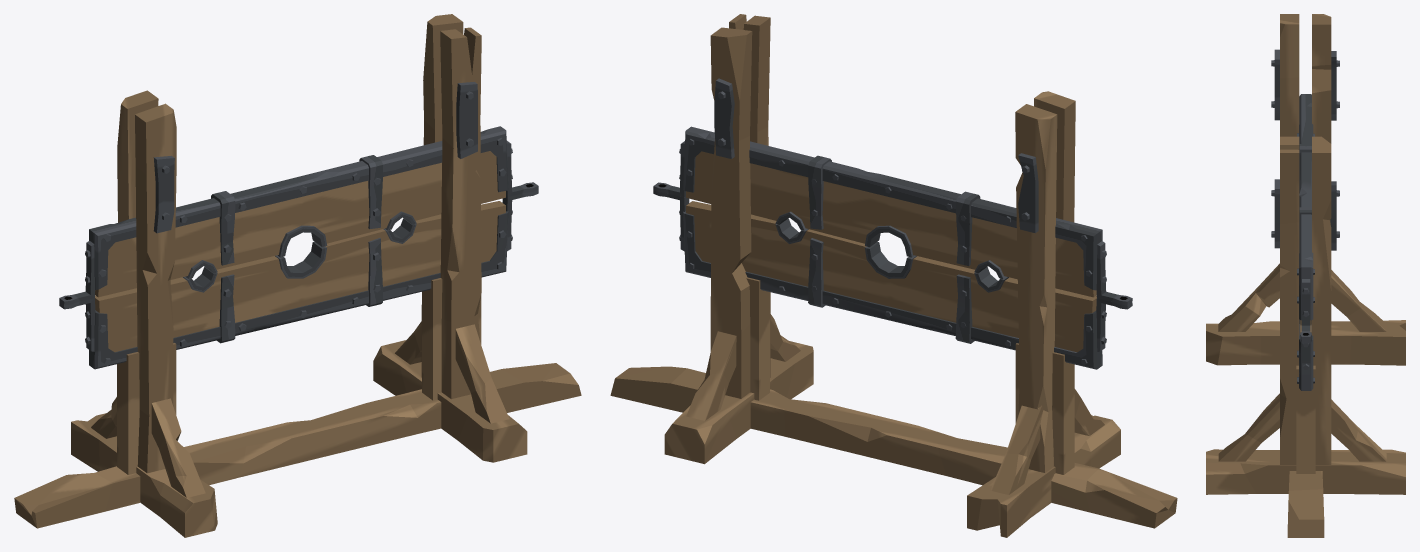
File: SM_Prop_Stock_01.fbx
3 views of the same model, side by side, from view 1: azimuth 30°, elevation 25°; view 2: azimuth 150°, elevation 25°; view 3: azimuth 270°, elevation 25° (orthographic). The views are drawn at different scales.
Visible parts, largest first — view 1: SM_Prop_Stock_01; view 2: SM_Prop_Stock_01; view 3: SM_Prop_Stock_01.
Part boxes in pixels (x1,y1,x2,y2): SM_Prop_Stock_01: (14,14,581,537); SM_Prop_Stock_01: (610,14,1177,537); SM_Prop_Stock_01: (1206,14,1405,537).
Bounding box in the file's own units: 294 × 202 × 106.
